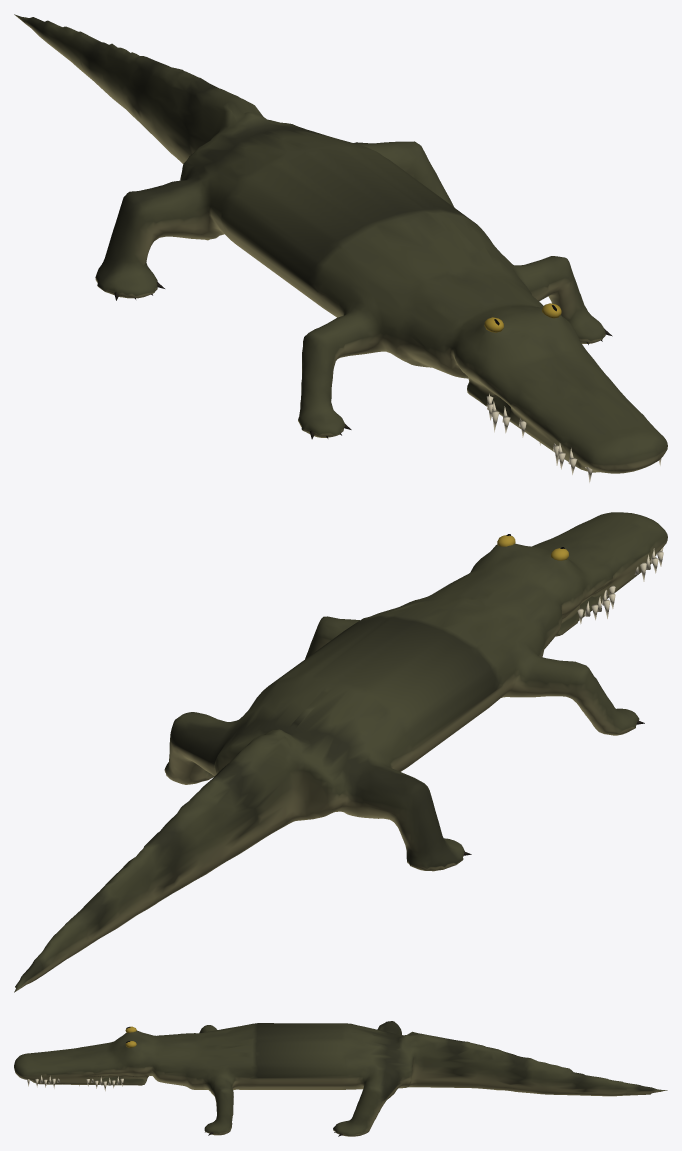
File: PurussaurusBrasiliensis.fbx
3 renders of one model, top to bottom at view 1: azimuth 30°, elevation 25°; view 2: azimuth 150°, elevation 25°; view 3: azimuth 270°, elevation 25°, orthographic. The views are drawn at different scales.
Visible parts, largest first — view 1: PurussaurusBrasiliensis; view 2: PurussaurusBrasiliensis; view 3: PurussaurusBrasiliensis.
Boxes of the visible parts, x1=… form: PurussaurusBrasiliensis: x1=14, y1=14, x2=667, y2=482; PurussaurusBrasiliensis: x1=14, y1=512, x2=667, y2=992; PurussaurusBrasiliensis: x1=14, y1=1021, x2=667, y2=1136.
Bounding box in the file's own units: 0.8957 × 0.3314 × 2.93.
